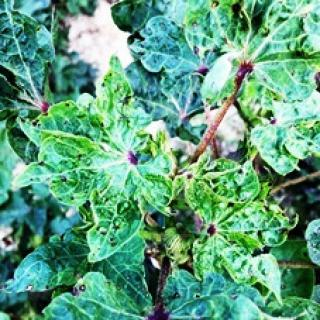curl: (38, 81, 160, 214), (188, 160, 292, 276)
